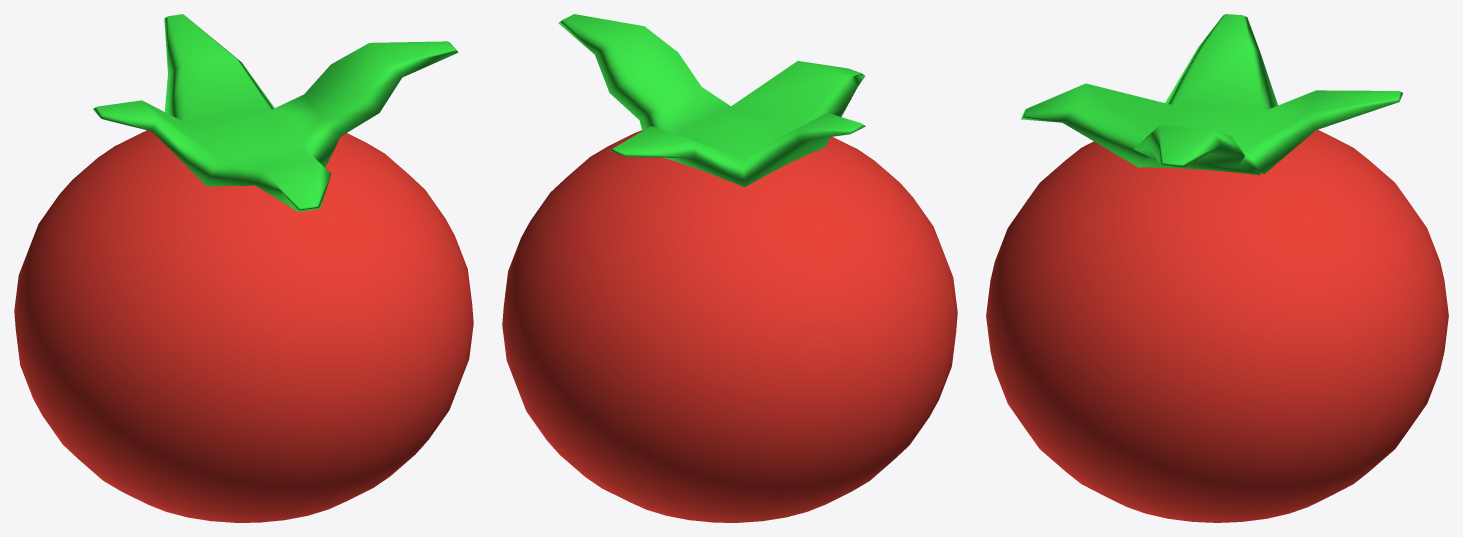
Rendered from tommy.fbx.
3 views of the same model, side by side, from view 1: azimuth 30°, elevation 25°; view 2: azimuth 150°, elevation 25°; view 3: azimuth 270°, elevation 25° (orthographic).
Visible parts, largest first — view 1: Sphere.001; view 2: Sphere.001; view 3: Sphere.001.
Boxes of the visible parts, x1,y1,x2,y2 form: Sphere.001: (14, 14, 473, 522); Sphere.001: (502, 14, 957, 522); Sphere.001: (986, 14, 1448, 522).
Size of the model in its own units: 72.54 by 74.5 by 72.54.
